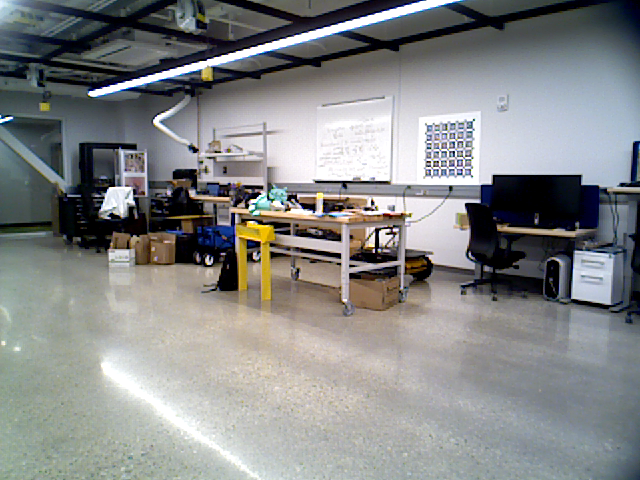painting4: (417, 112, 480, 185)
